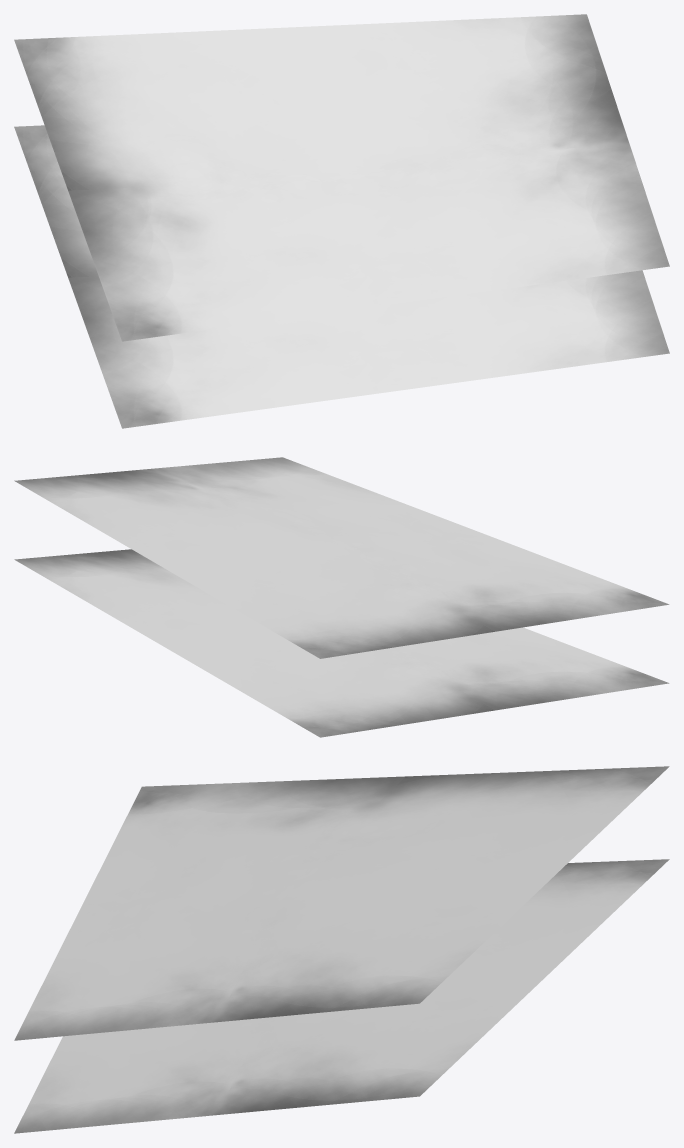
The model's file is CourseWinter_CurveFloor_7_14.fbx.
The picture shows the model from 3 angles, top to bottom: view 1: azimuth 30°, elevation 25°; view 2: azimuth 150°, elevation 25°; view 3: azimuth 270°, elevation 25°; orthographic projection. The views are drawn at different scales.
Visible parts, largest first — view 1: polySurface708; view 2: polySurface708; view 3: polySurface708.
Part boxes in pixels (x1,y1,x2,y2): polySurface708: [14, 14, 669, 428]; polySurface708: [14, 457, 669, 737]; polySurface708: [14, 766, 669, 1133].
Bounding box in the file's own units: 7.16 × 2 × 6.4.
Materials: 1 (1 with a texture image).
